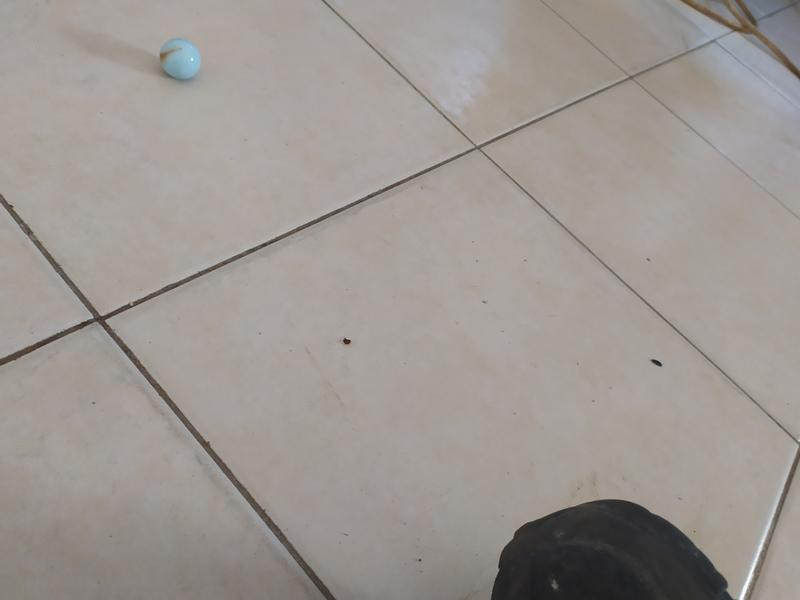Warning: (157, 35, 204, 82)
